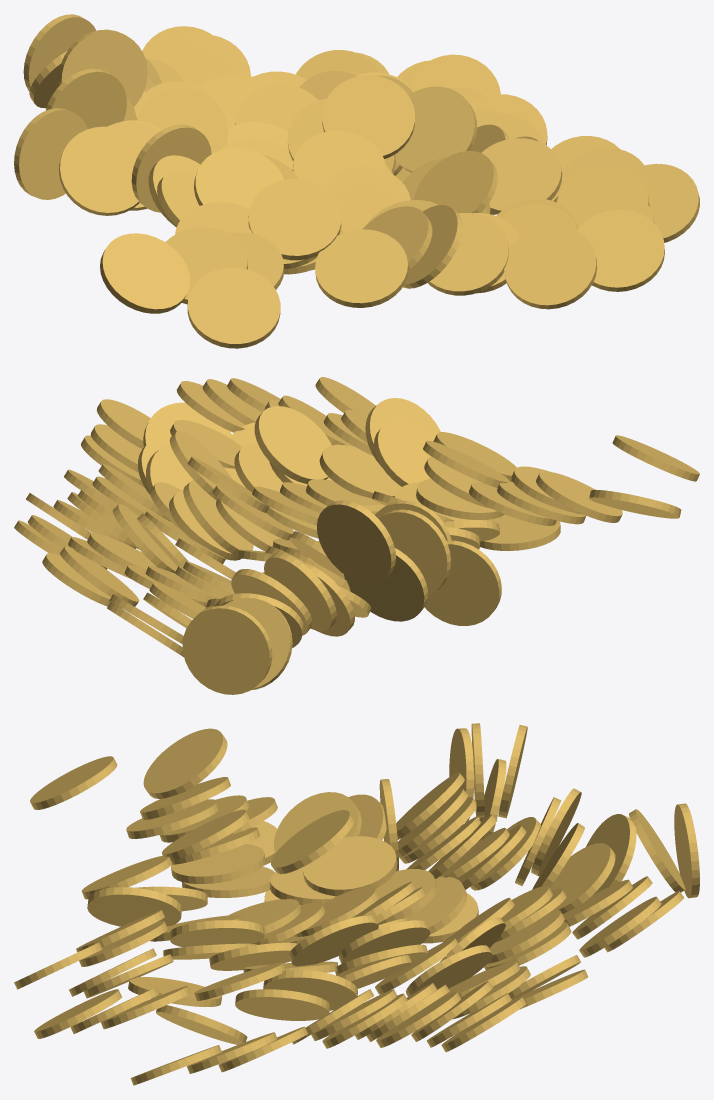
The model's file is gold_coin.fbx.
The picture shows the model from 3 angles, top to bottom: view 1: azimuth 30°, elevation 25°; view 2: azimuth 150°, elevation 25°; view 3: azimuth 270°, elevation 25°; orthographic projection. The views are drawn at different scales.
Parts seen in each view (by area): view 1: gold_coins; view 2: gold_coins; view 3: gold_coins.
Part boxes in pixels (left/top/right/bottom): gold_coins: left=14, top=14, right=699, bottom=348; gold_coins: left=14, top=377, right=699, bottom=694; gold_coins: left=14, top=723, right=699, bottom=1085.
Size of the model in its own units: 75.83 by 20.93 by 76.05.
